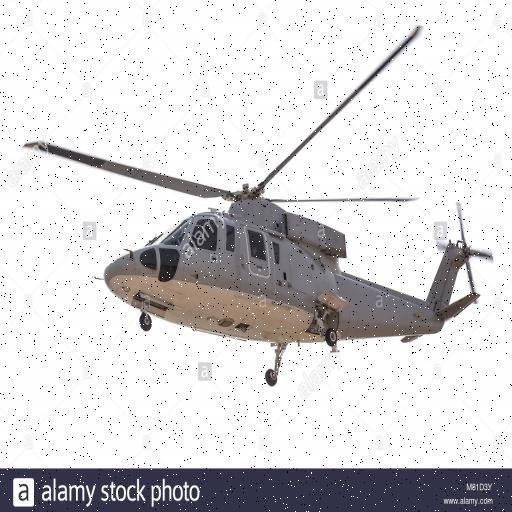helicopter: (21, 28, 505, 386)
